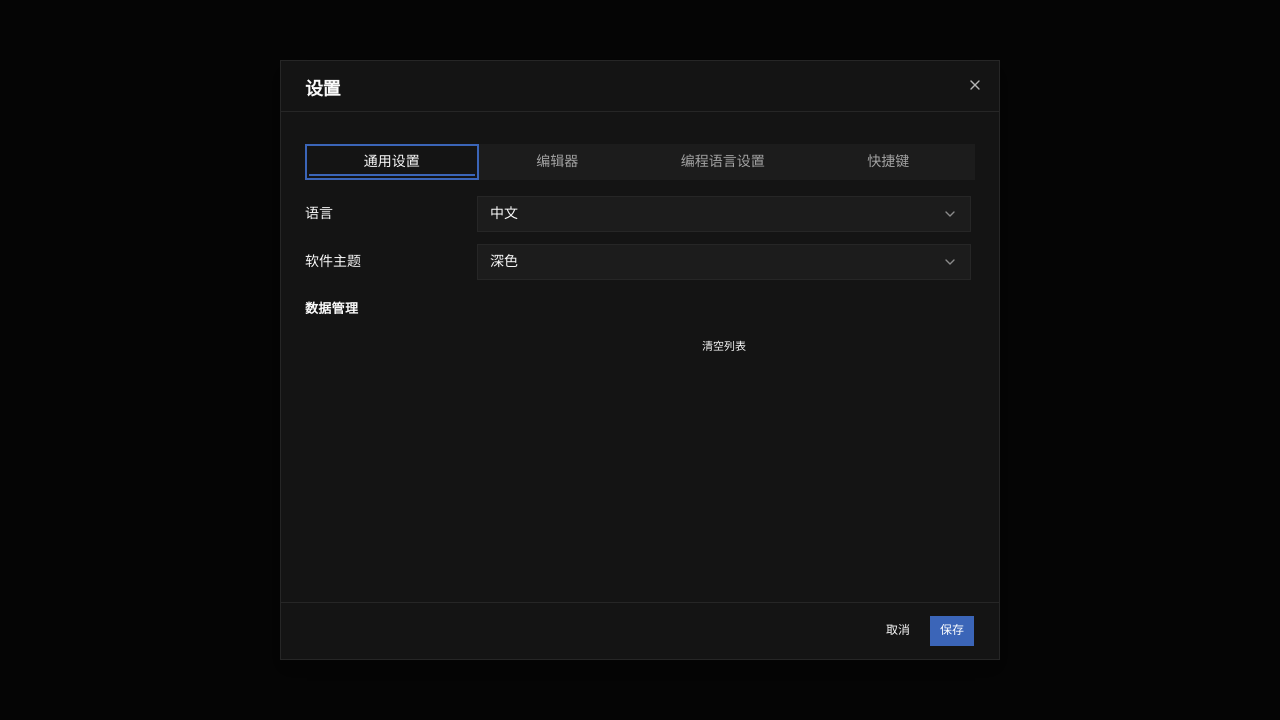
SettingsPanel 快捷键 tab 渲染 › 点击快捷键 tab 后渲染表格表头（3 列）
Step 1. Click the tab "快捷键" → (888, 162), box [806,148,971,176]
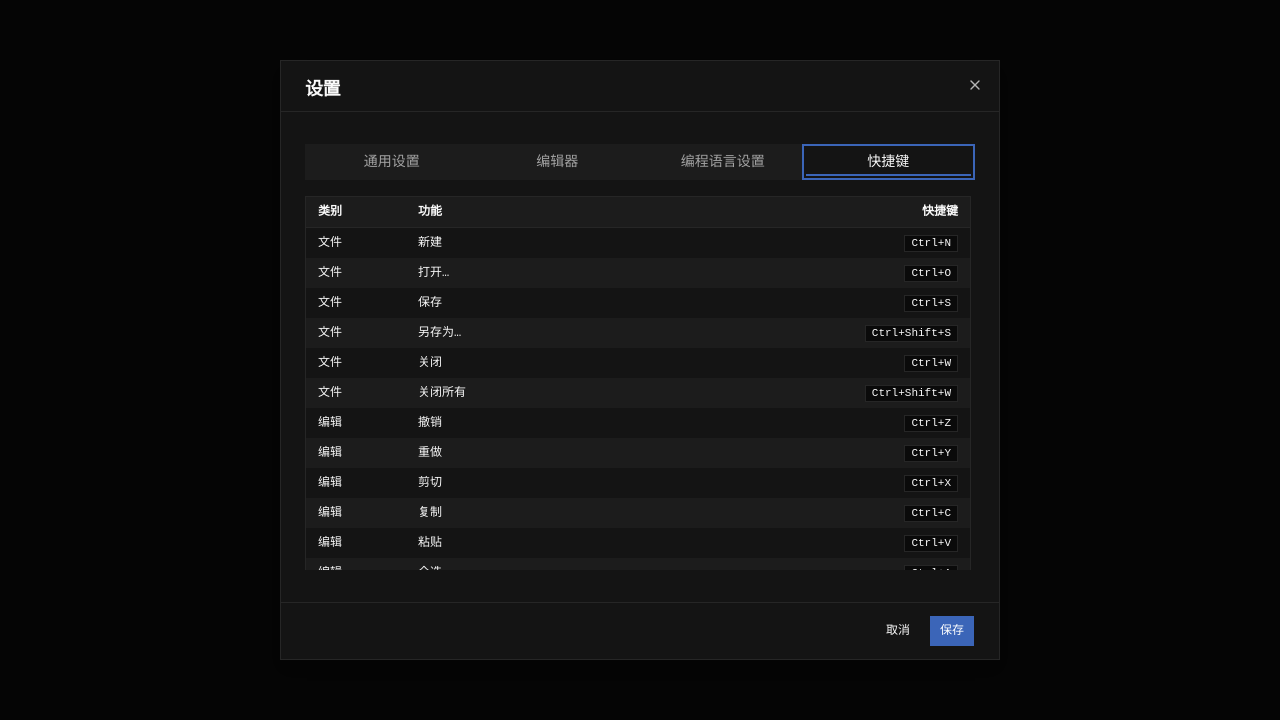
Check: the text "类别" is shown, box [318,205,342,219]
Check: the text "功能" is shown, box [418,205,442,219]
Check: the text "快捷键" is shown, box [922,205,958,219]
